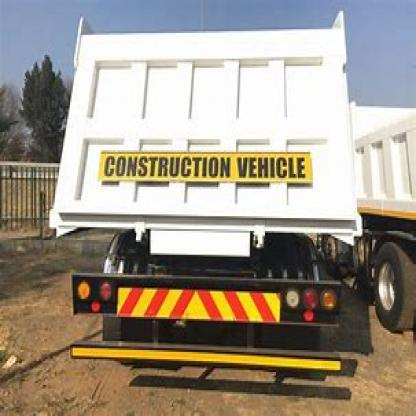dump_truck: (60, 11, 379, 394)
